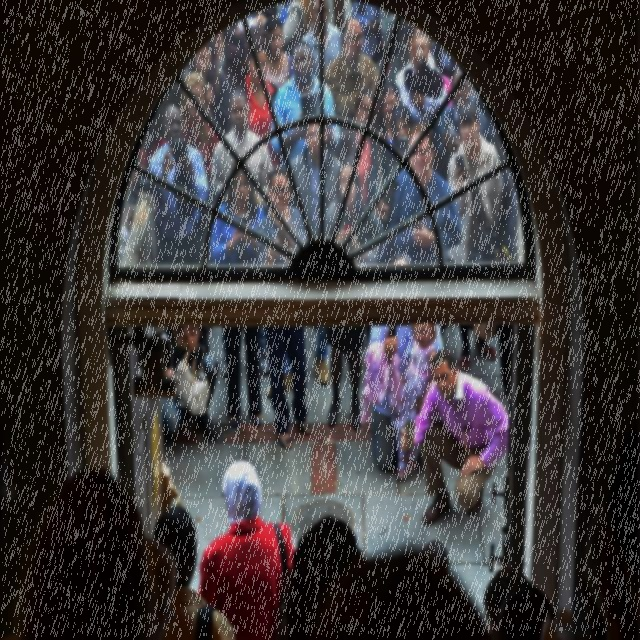pessoa: (289, 511, 604, 639), (0, 462, 174, 640), (265, 120, 343, 400), (400, 349, 510, 526), (210, 87, 274, 377), (194, 459, 296, 639), (207, 156, 269, 430), (255, 166, 315, 449), (324, 156, 384, 432), (446, 100, 504, 373), (378, 122, 463, 266), (366, 322, 444, 472), (153, 506, 235, 640), (148, 102, 210, 266), (270, 39, 342, 170), (392, 324, 438, 481), (161, 323, 219, 442), (434, 65, 492, 181), (163, 70, 220, 188), (496, 164, 524, 397), (395, 21, 448, 144), (235, 31, 280, 170), (116, 119, 152, 280), (324, 16, 379, 120), (336, 86, 382, 210), (351, 0, 409, 78), (404, 29, 449, 128), (188, 39, 232, 135), (226, 5, 276, 85), (468, 86, 509, 164), (374, 80, 402, 176), (261, 14, 295, 92), (274, 1, 318, 54), (430, 42, 457, 96), (390, 103, 414, 157), (164, 61, 194, 102), (208, 23, 225, 82), (151, 100, 165, 154)
